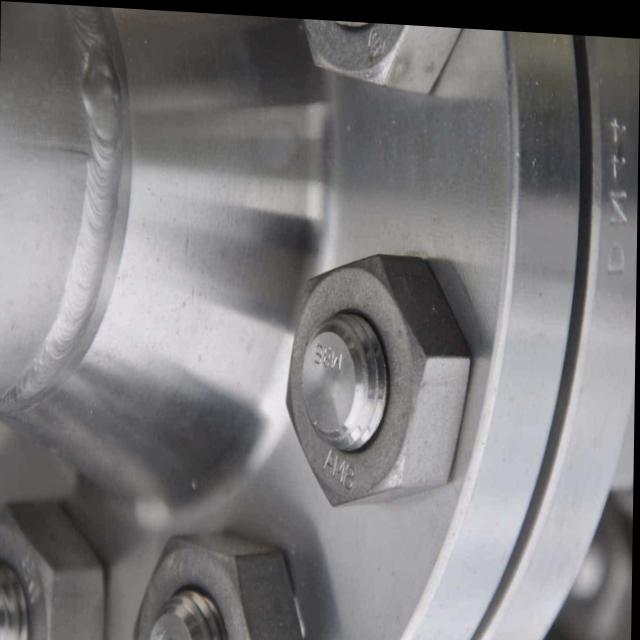Regular bolt: (284, 238, 475, 513), (136, 541, 312, 640), (1, 500, 110, 640), (300, 15, 461, 88)
